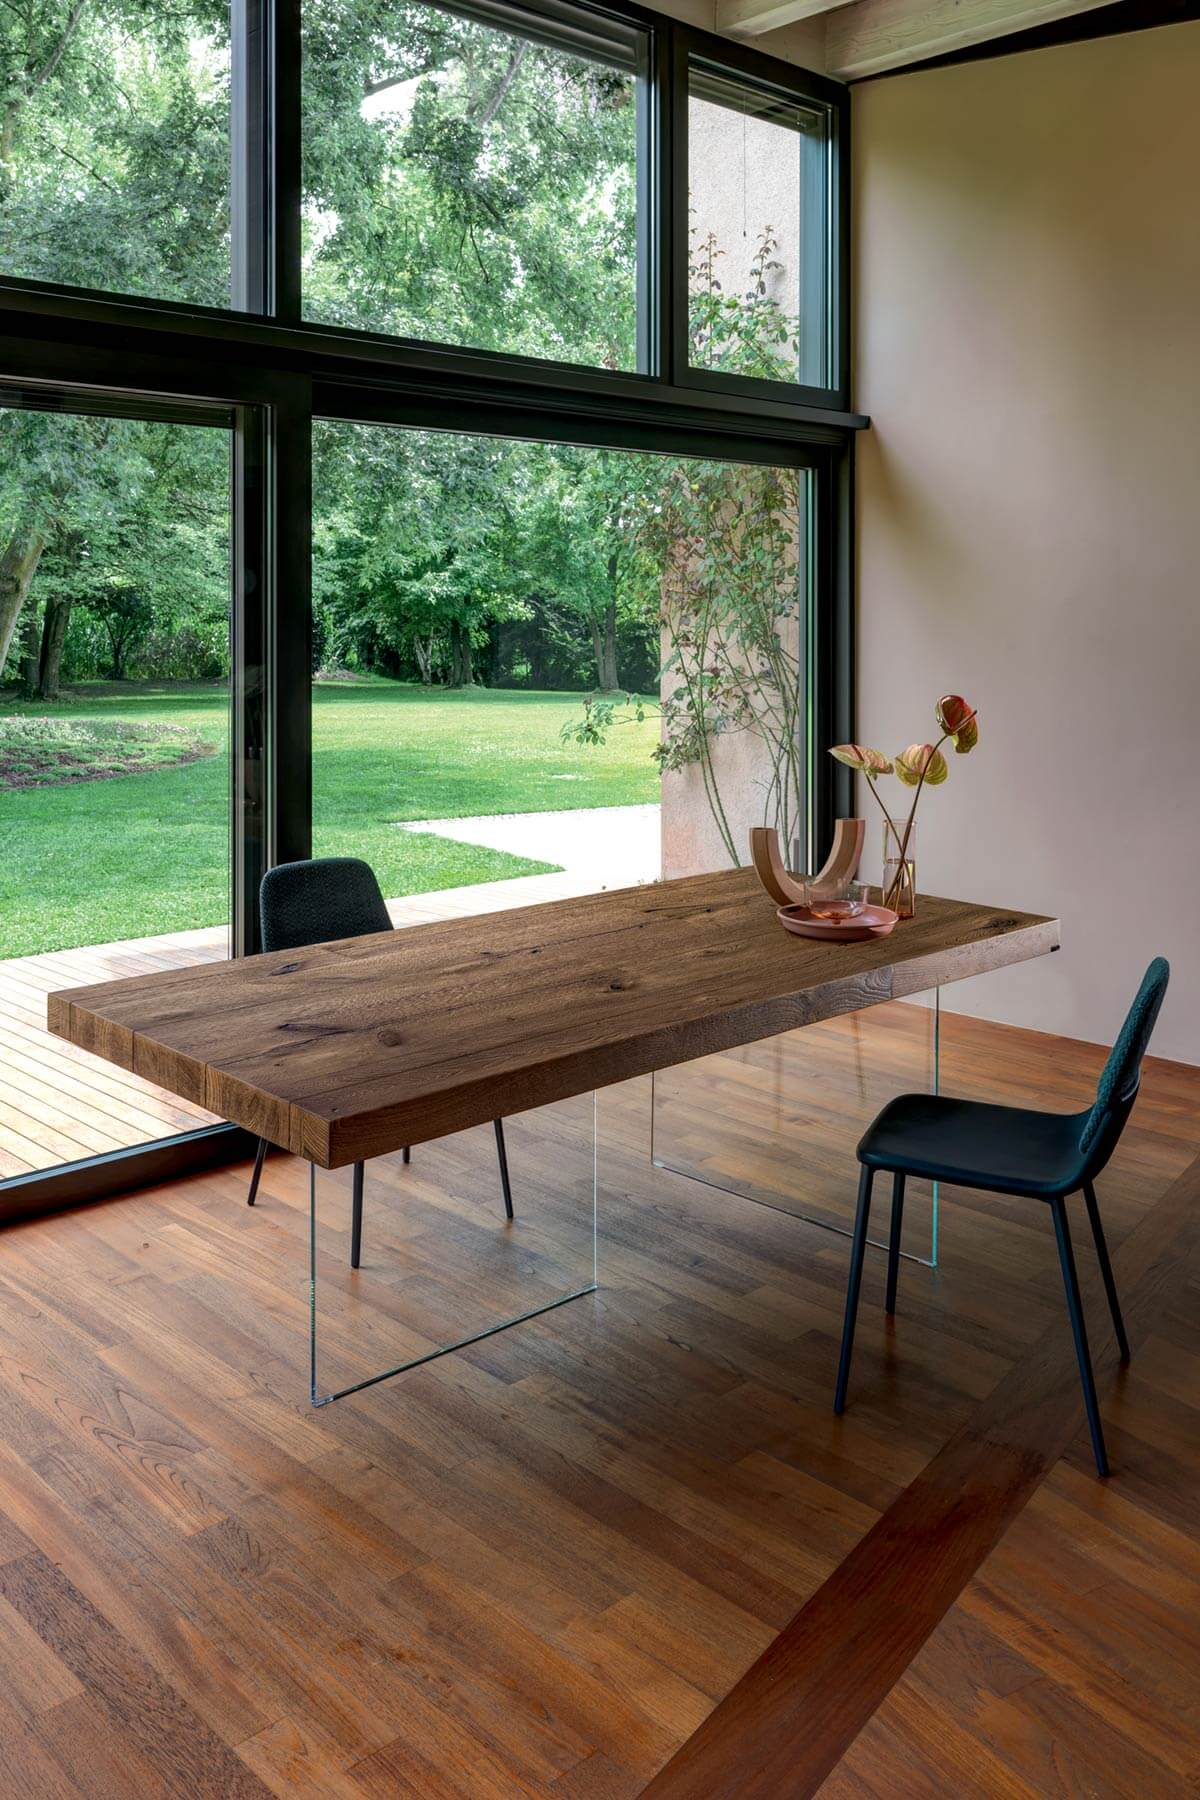chair: (808, 947, 1180, 1492)
table: (26, 833, 1076, 1415)
